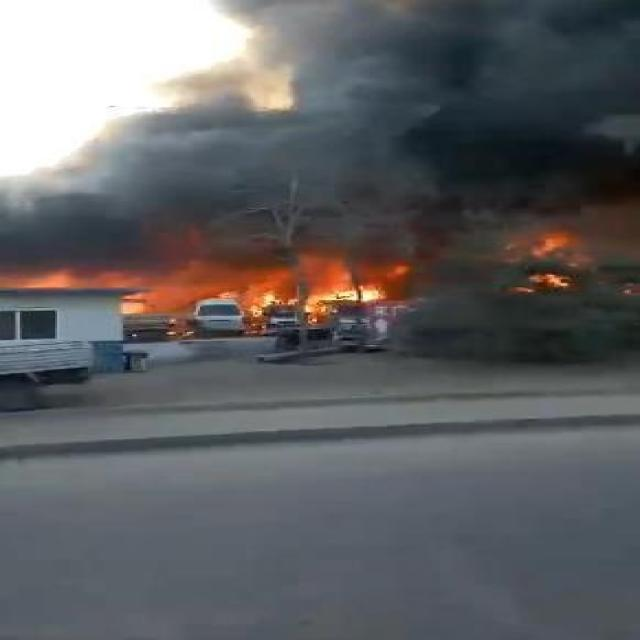Fire: (120, 240, 418, 316), (506, 230, 596, 292), (0, 270, 138, 292)
Smoke: (0, 0, 640, 304)
